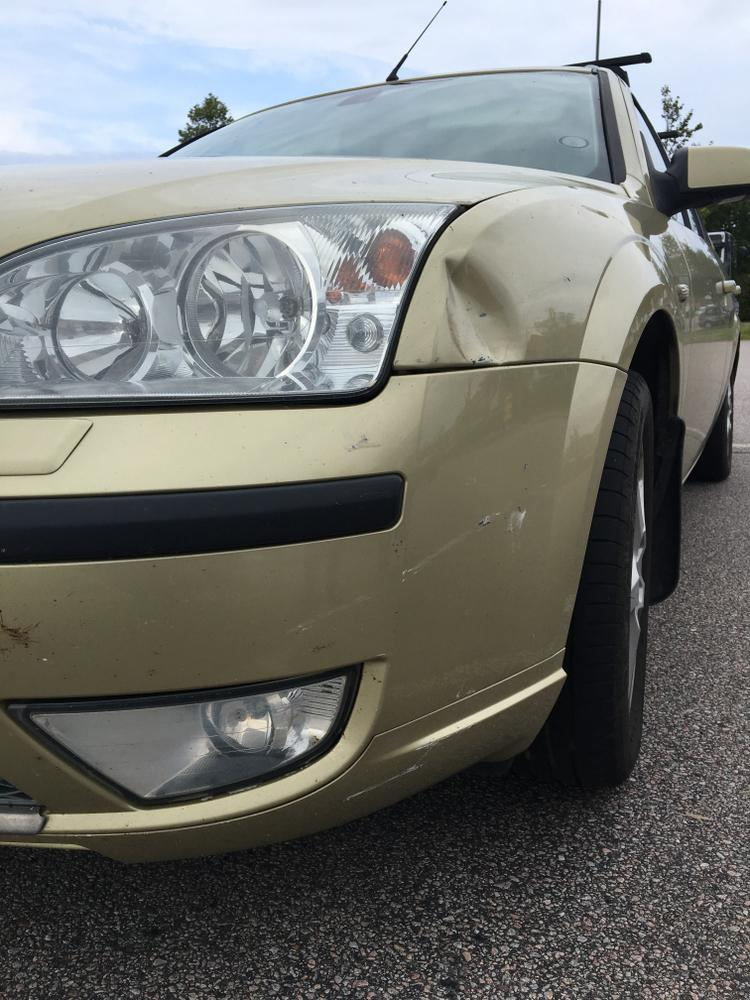dent: (446, 253, 525, 365)
scratch: (393, 503, 530, 587)
